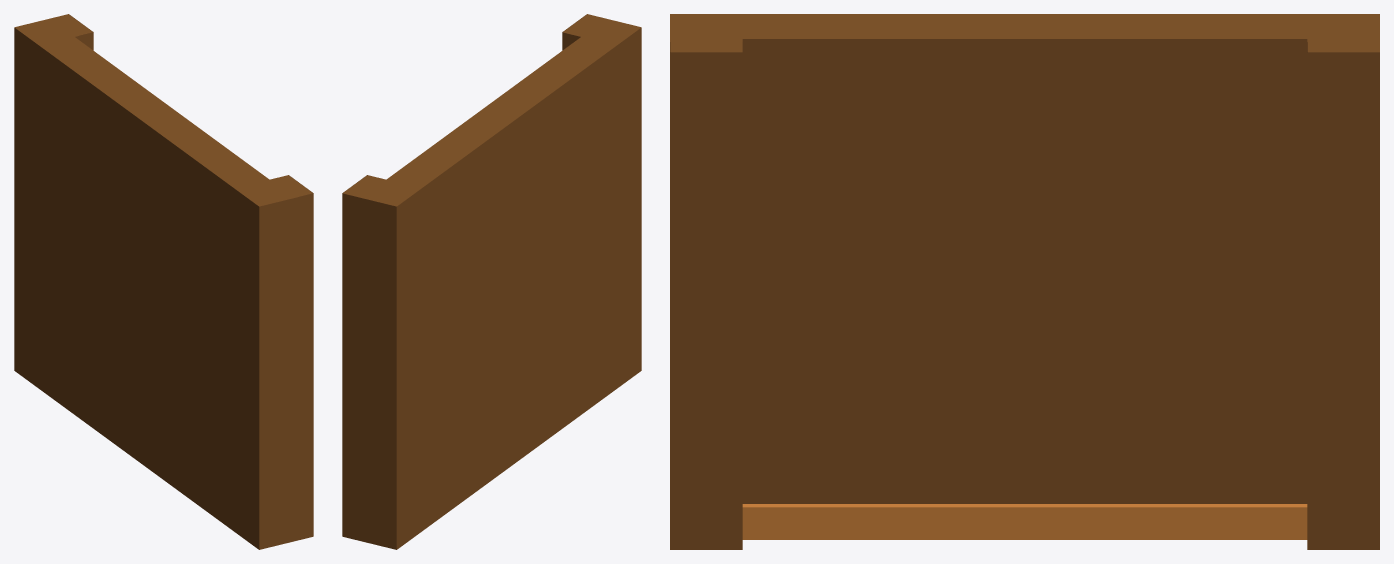
The model's file is wall_base.fbx.
3 views of the same model, side by side, from view 1: azimuth 30°, elevation 25°; view 2: azimuth 150°, elevation 25°; view 3: azimuth 270°, elevation 25° (orthographic). The views are drawn at different scales.
Visible parts, largest first — view 1: Cube; view 2: Cube; view 3: Cube.
Part boxes in pixels (<box>): Cube: <box>14,14,313,549</box>; Cube: <box>342,14,641,549</box>; Cube: <box>670,14,1379,549</box>.
Bounding box in the file's own units: 123 × 739 × 955.
Materials: 1 (1 with a texture image).
